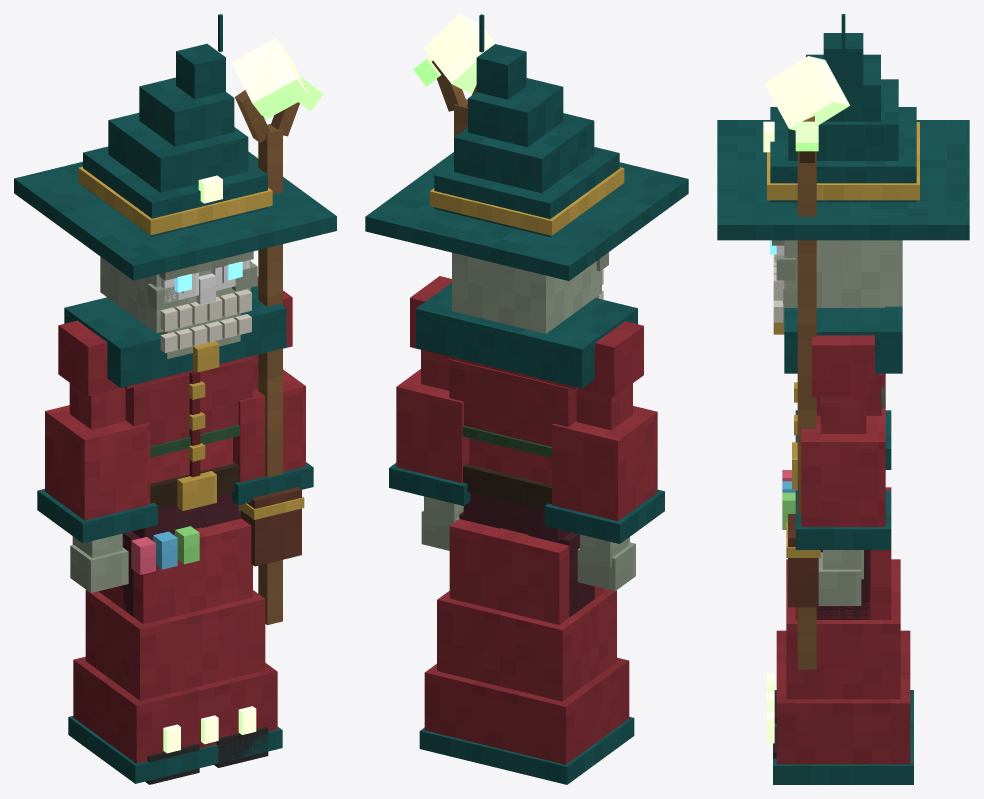
Rendered from undead_mage.glb.
The picture shows the model from 3 angles, left to right: view 1: azimuth 30°, elevation 25°; view 2: azimuth 150°, elevation 25°; view 3: azimuth 270°, elevation 25°; orthographic projection. The views are drawn at different scales.
Parts seen in each view (by area): view 1: Head, Root, Torso, ArmR, HandL, ArmL, LegL, LegR; view 2: Head, Root, Torso, ArmR, ArmL, HandL, LegR; view 3: Head, Root, ArmL, HandL, Torso, LegL, ArmR.
Boxes of the visible parts, left/top/right/bottom form: Head: left=14, top=14, right=336, bottom=358; Root: left=68, top=518, right=282, bottom=783; Torso: left=64, top=286, right=304, bottom=574; ArmR: left=37, top=320, right=157, bottom=592; HandL: left=231, top=38, right=323, bottom=625; ArmL: left=232, top=277, right=313, bottom=511; LegL: left=202, top=511, right=268, bottom=767; LegR: left=116, top=531, right=199, bottom=784; Head: left=365, top=14, right=688, bottom=333; Root: left=419, top=519, right=634, bottom=784; Torso: left=416, top=282, right=637, bottom=541; ArmR: left=544, top=321, right=664, bottom=591; ArmL: left=389, top=276, right=470, bottom=550; HandL: left=413, top=14, right=495, bottom=137; LegR: left=528, top=532, right=594, bottom=617; Head: left=717, top=14, right=969, bottom=330; Root: left=767, top=487, right=913, bottom=784; ArmL: left=795, top=335, right=891, bottom=605; HandL: left=764, top=56, right=849, bottom=669; Torso: left=773, top=306, right=902, bottom=607; LegL: left=773, top=550, right=870, bottom=758; ArmR: left=795, top=373, right=891, bottom=469.
Size of the model in its own units: 0.7694 by 2.2 by 0.66.
Materials: 36 (36 with a texture image).
